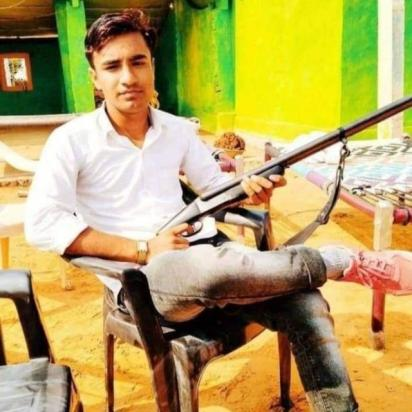Gun: (155, 95, 412, 240)
